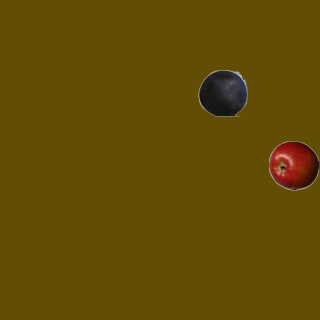Apple Braeburn: (268, 140, 318, 190)
Grape Blue: (197, 67, 247, 117)
